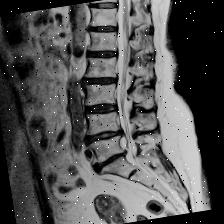disc: (82, 42, 123, 66), (85, 18, 121, 42), (86, 0, 121, 17)
hdisc: (87, 148, 138, 176), (79, 68, 123, 94), (80, 124, 127, 148), (83, 97, 121, 122)
